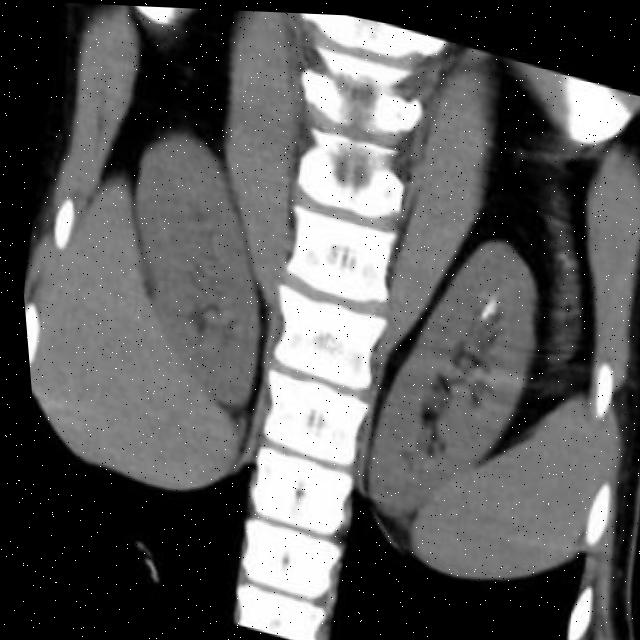Tas_Var: (472, 290, 494, 312), (475, 306, 484, 315)
